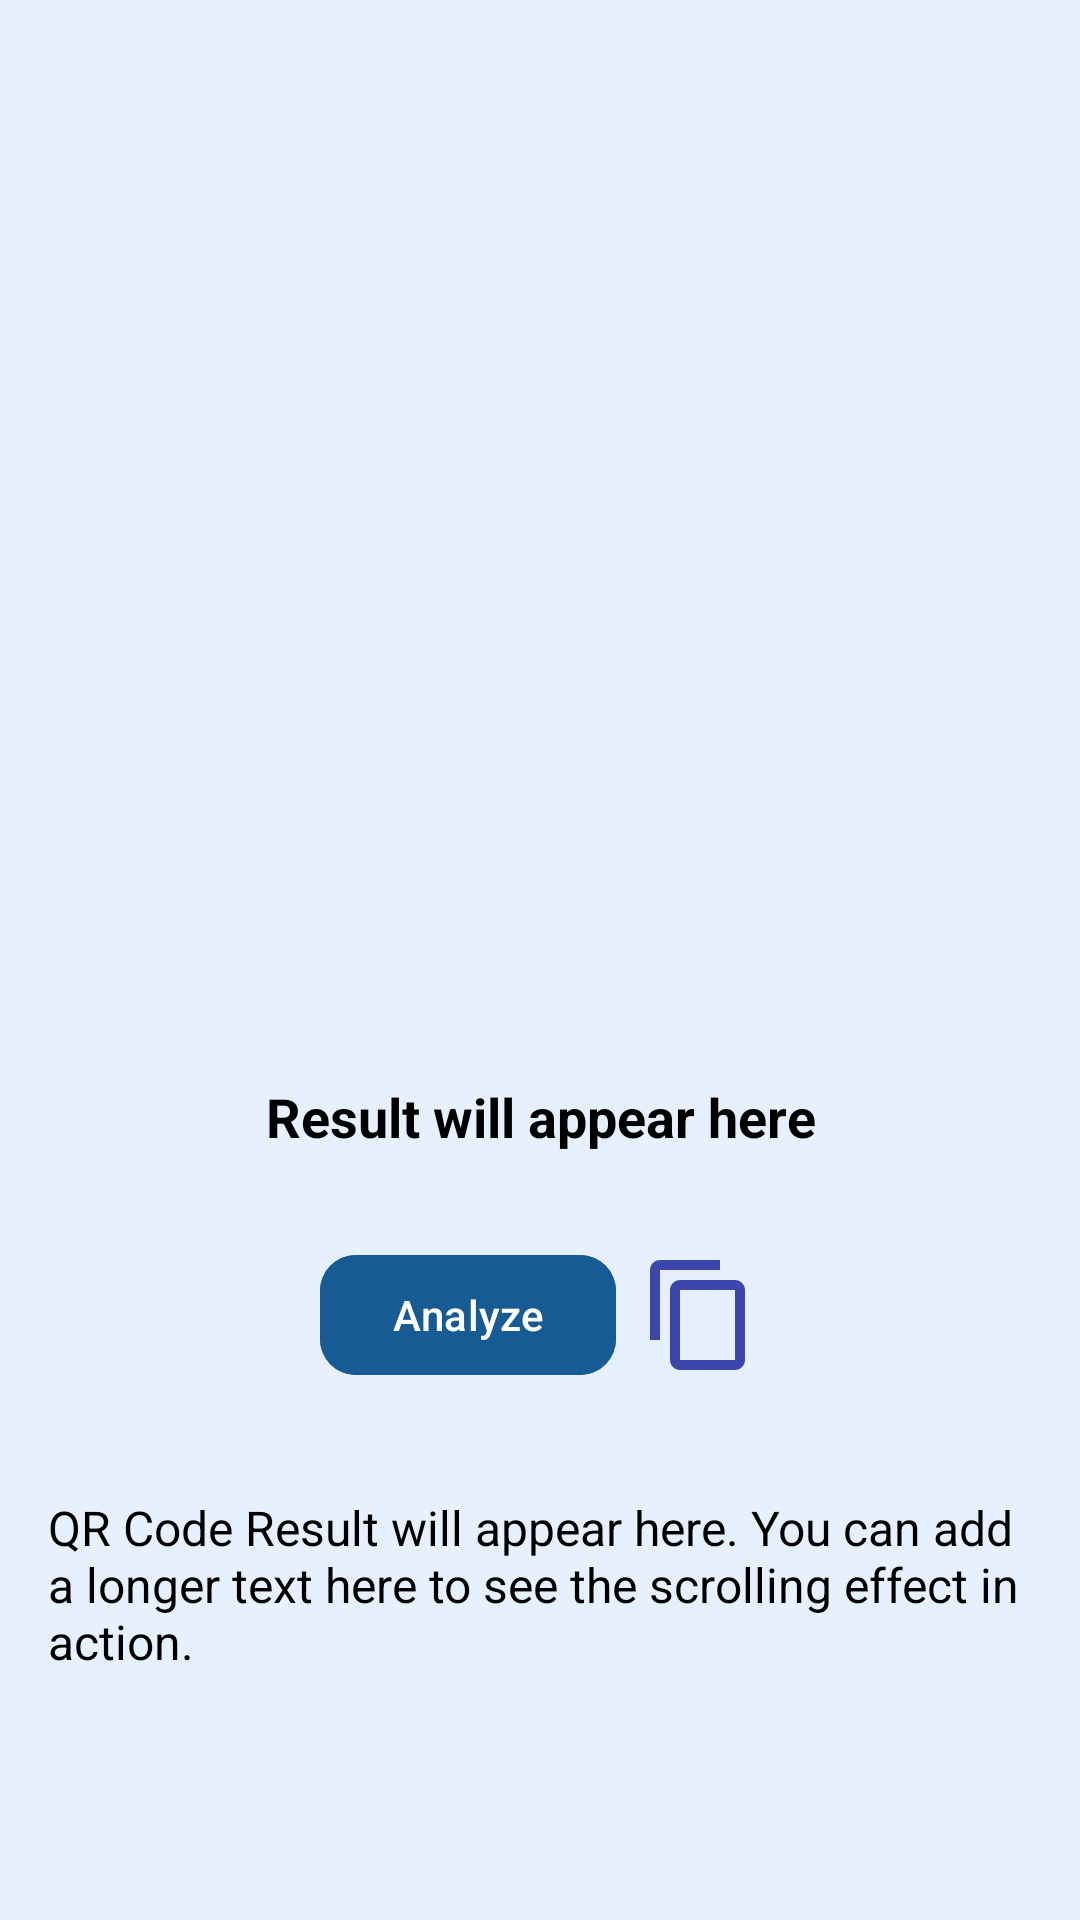

Named icons in this screenshot (1080 × 1920) and their bounding boxes, [x1,y1,x2,y2]:
Copy Icon: [650,1260,745,1370]
